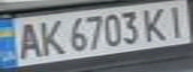0: (103, 10, 124, 47)
3: (118, 8, 142, 45)
6: (66, 14, 87, 53)
7: (84, 12, 106, 51)
A: (9, 19, 45, 61)
I: (163, 2, 193, 38)
K: (139, 4, 175, 43), (33, 17, 66, 57)
